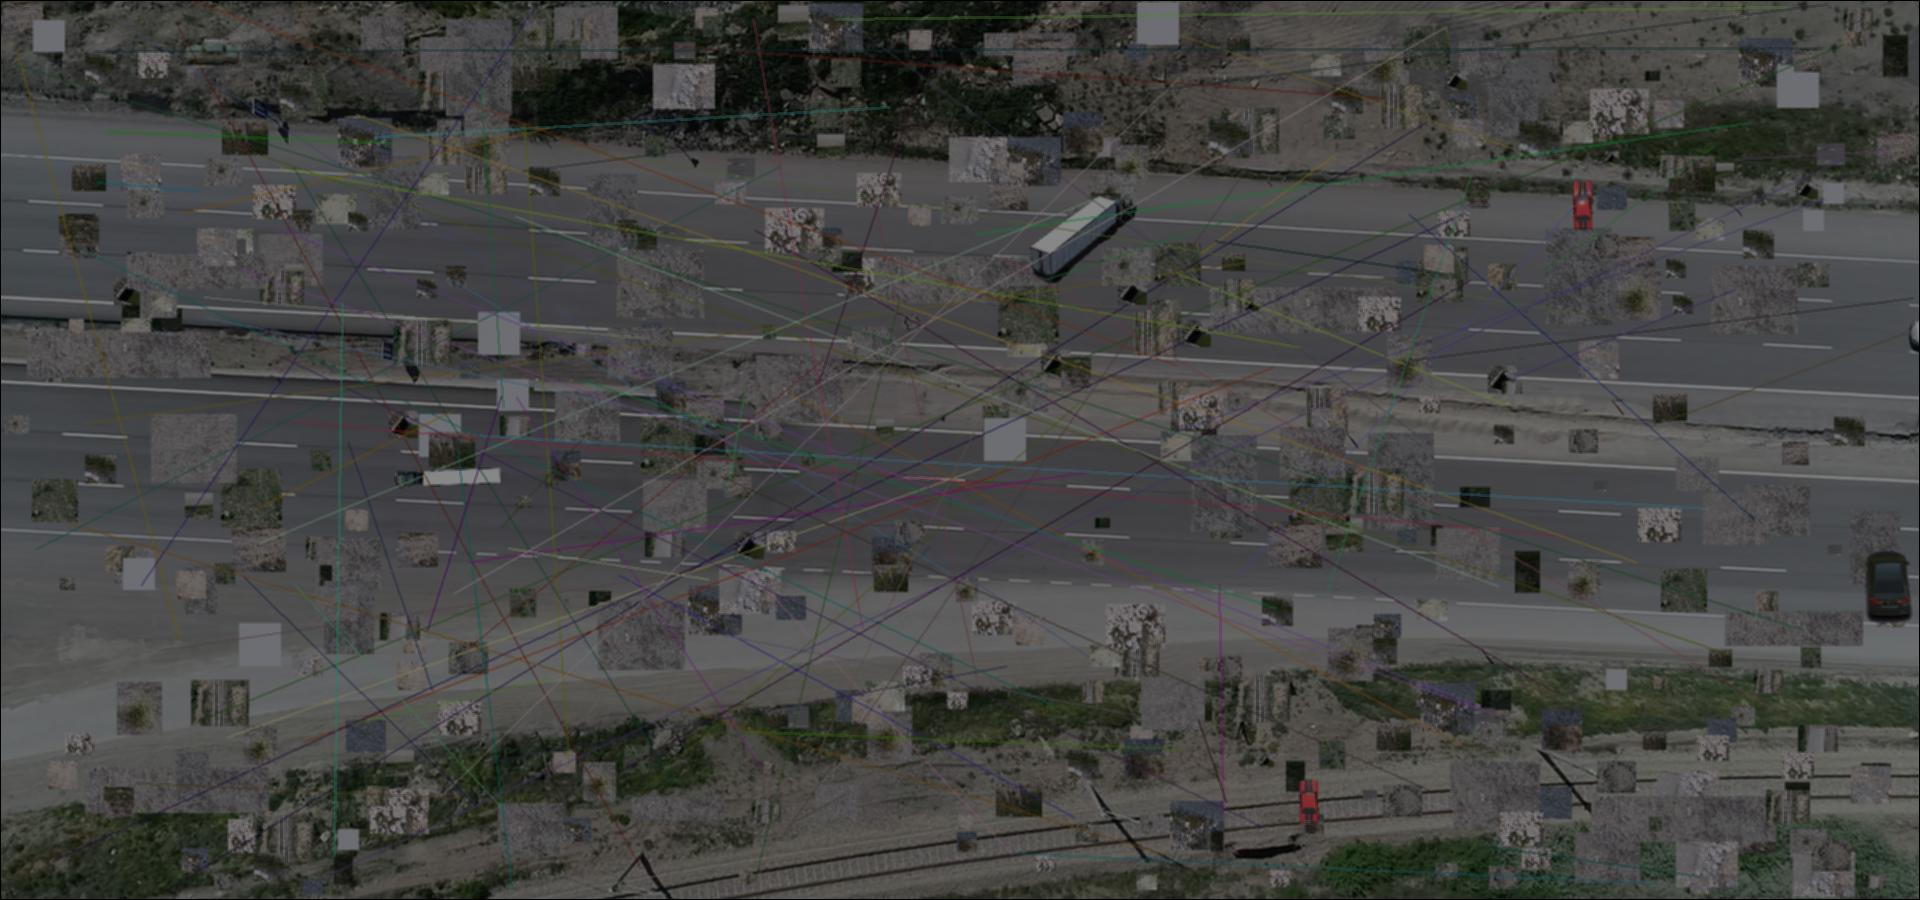arac: (1024, 192, 1138, 283), (1862, 550, 1914, 624), (394, 467, 504, 489), (182, 40, 239, 65), (1571, 179, 1596, 231), (1297, 778, 1320, 827)
